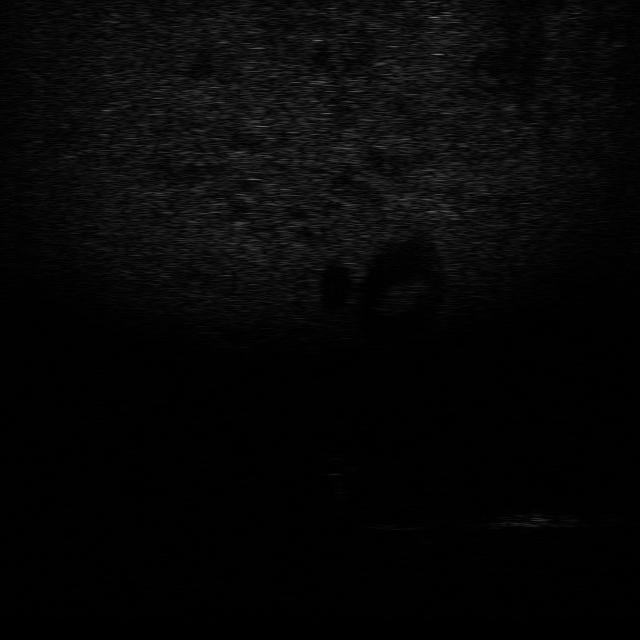ball: (315, 454, 363, 477)
metal bucket: (471, 502, 584, 532)
tyre: (370, 497, 434, 535)
